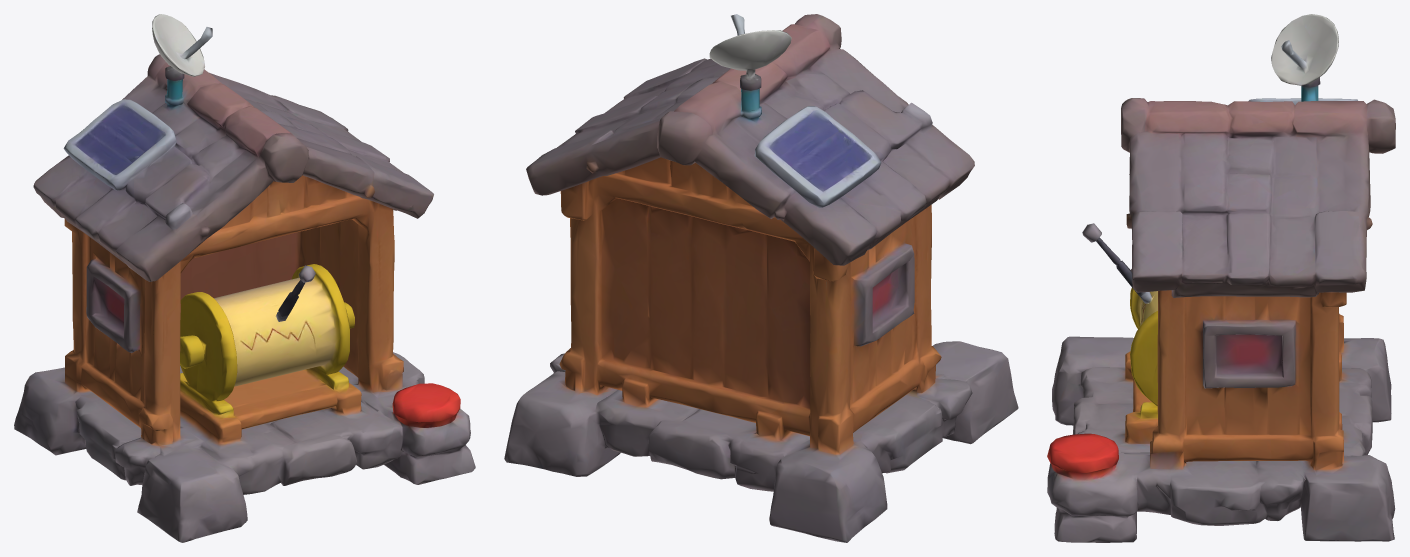
File: seismograph.glb
3 renders of one model, left to right at view 1: azimuth 30°, elevation 25°; view 2: azimuth 150°, elevation 25°; view 3: azimuth 270°, elevation 25°, orthographic. The views are drawn at different scales.
Parts seen in each view (by area): view 1: tripo_node_8157bb53-ee9d-4fd7-b82d-b9d0daa691aa; view 2: tripo_node_8157bb53-ee9d-4fd7-b82d-b9d0daa691aa; view 3: tripo_node_8157bb53-ee9d-4fd7-b82d-b9d0daa691aa.
Boxes of the visible parts, box(x1,y1,x2,y2) form: tripo_node_8157bb53-ee9d-4fd7-b82d-b9d0daa691aa: box(14, 14, 475, 542); tripo_node_8157bb53-ee9d-4fd7-b82d-b9d0daa691aa: box(504, 14, 1018, 542); tripo_node_8157bb53-ee9d-4fd7-b82d-b9d0daa691aa: box(1047, 14, 1395, 542).
Size of the model in its own units: 0.8077 by 1 by 0.7393.
1 material, 1 textured.
